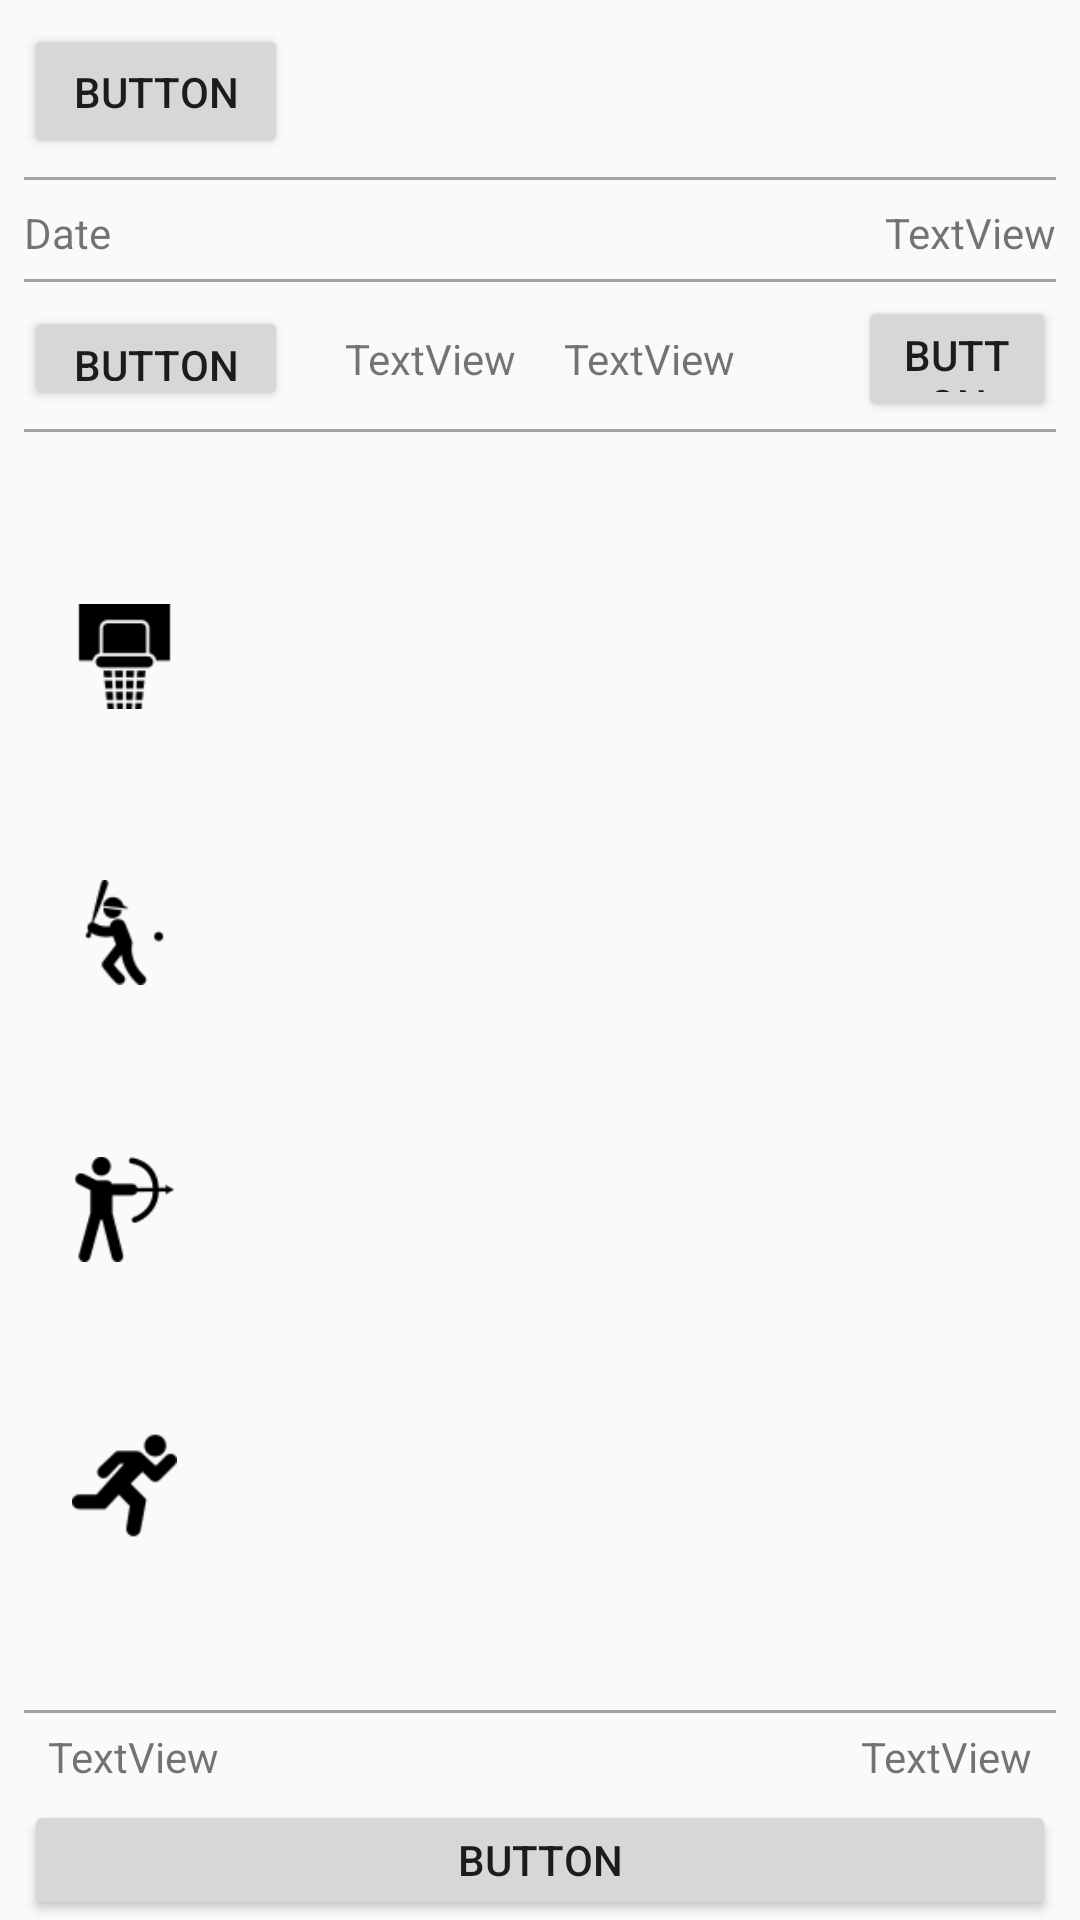

Screen size 1080 × 1920. Icon name, then its box in pixels as {"x1": x1, "y1": y1, "x2": x2, "y2": y2}:
baseball: {"x1": 85, "y1": 880, "x2": 164, "y2": 985}
basketball: {"x1": 78, "y1": 604, "x2": 171, "y2": 709}
hunter: {"x1": 75, "y1": 1157, "x2": 174, "y2": 1262}
running: {"x1": 72, "y1": 1434, "x2": 177, "y2": 1537}
